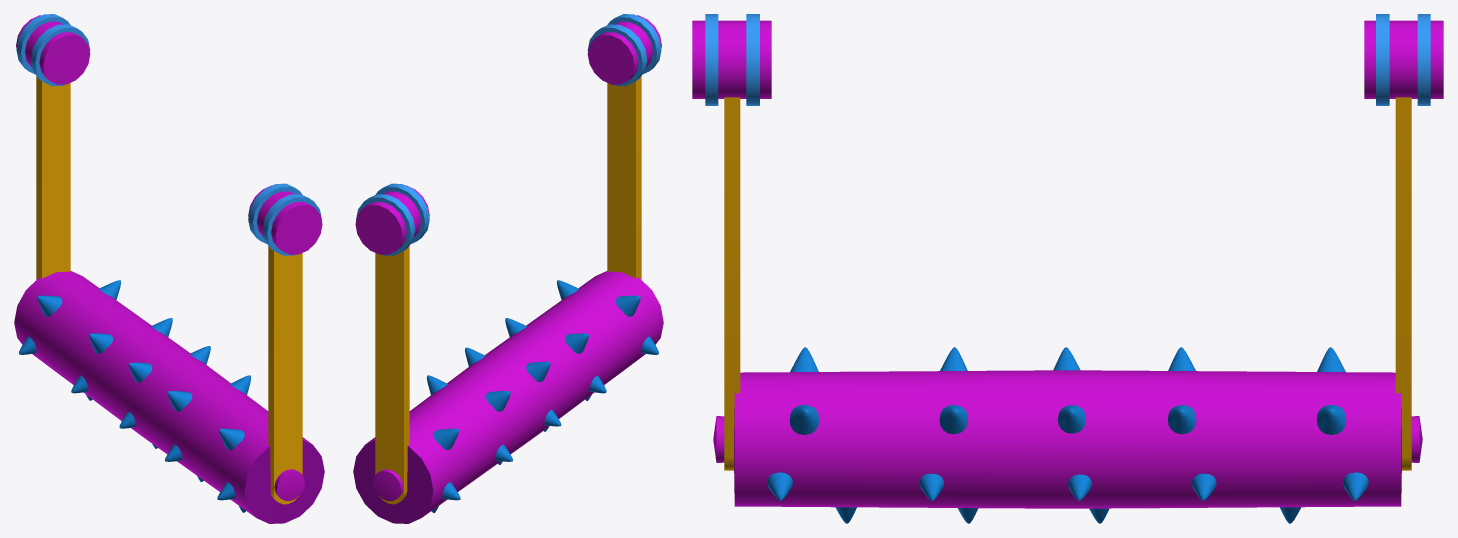
The model's file is Obstacle3.fbx.
The picture shows the model from 3 angles, left to right: view 1: azimuth 30°, elevation 25°; view 2: azimuth 150°, elevation 25°; view 3: azimuth 270°, elevation 25°; orthographic projection. The views are drawn at different scales.
Visible parts, largest first — view 1: Cylinder.031; view 2: Cylinder.031; view 3: Cylinder.031.
Part boxes in pixels (x1,y1,x2,y2): Cylinder.031: (14,14,324,523); Cylinder.031: (353,14,663,523); Cylinder.031: (692,14,1443,523).
Bounding box in the file's own units: 0.9208 × 4.03 × 3.
